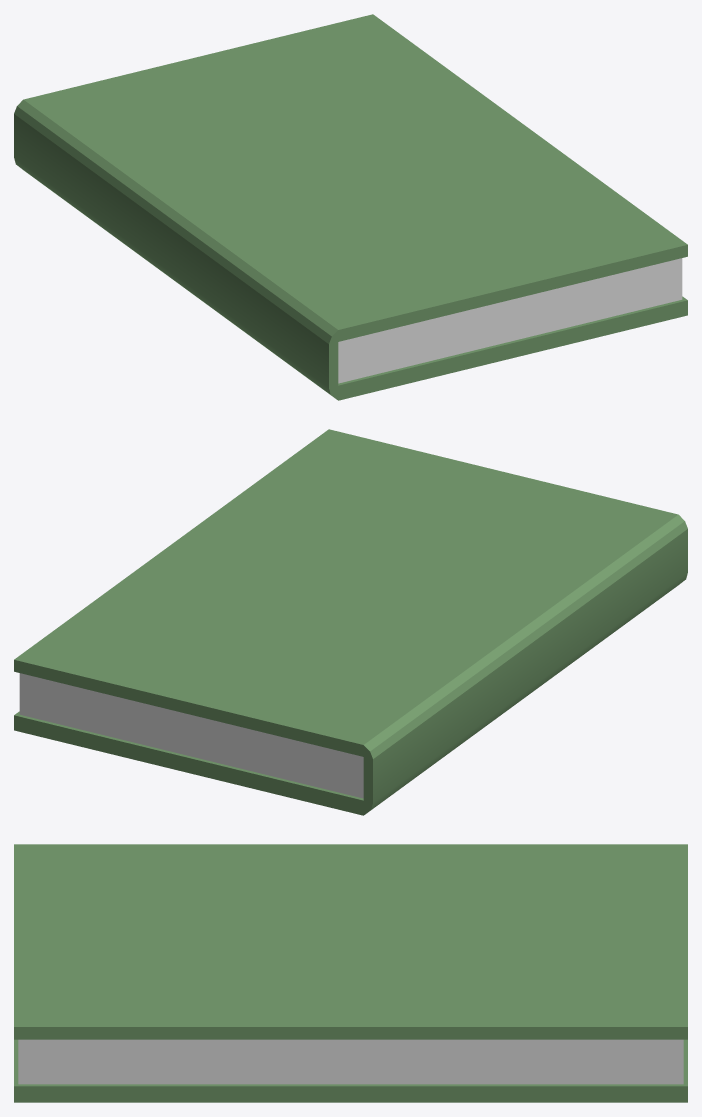
The model's file is libroVerde.fbx.
The picture shows the model from 3 angles, top to bottom: view 1: azimuth 30°, elevation 25°; view 2: azimuth 150°, elevation 25°; view 3: azimuth 270°, elevation 25°; orthographic projection. The views are drawn at different scales.
Parts seen in each view (by area): view 1: Cube; view 2: Cube; view 3: Cube.
Boxes of the visible parts, left/top/right/bottom form: Cube: left=14, top=14, right=687, bottom=400; Cube: left=14, top=429, right=687, bottom=815; Cube: left=14, top=844, right=687, bottom=1102.
Size of the model in its own units: 78.65 by 14.8 by 119.
